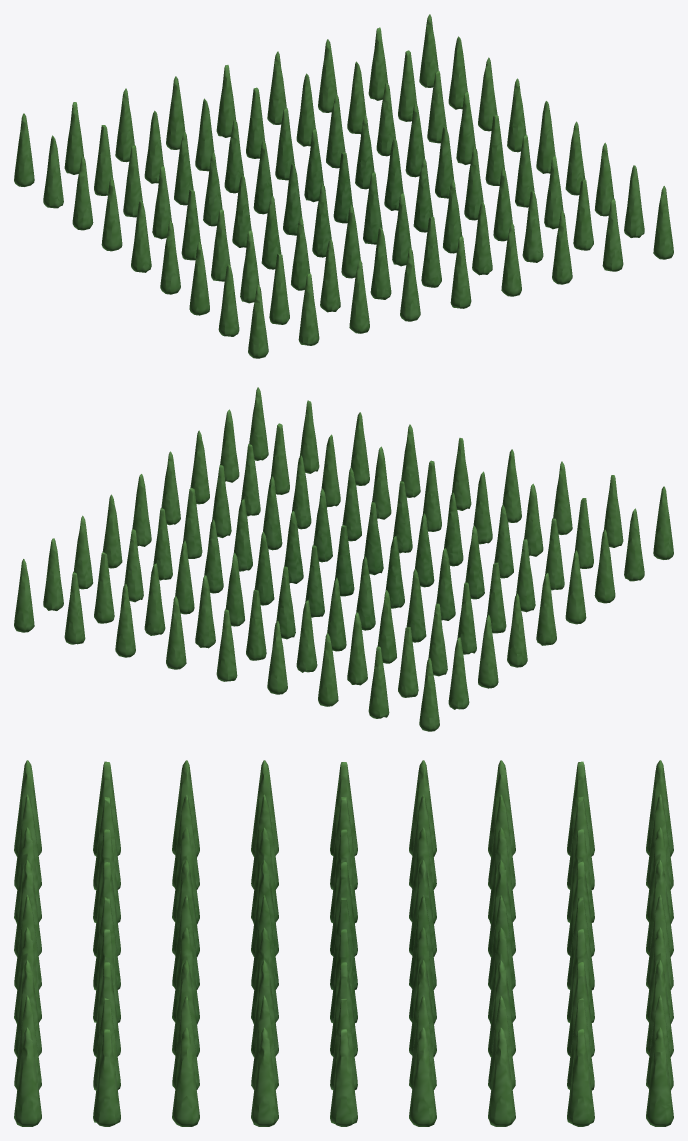
File: grass_patch.glb
3 views of the same model, one above another, from view 1: azimuth 30°, elevation 25°; view 2: azimuth 150°, elevation 25°; view 3: azimuth 270°, elevation 25° (orthographic). The views are drawn at different scales.
Visible parts, largest first — view 1: grass_patch; view 2: grass_patch; view 3: grass_patch.
Boxes of the visible parts, box(x1,y1,x2,y2) form: grass_patch: box(14, 14, 673, 358); grass_patch: box(14, 387, 673, 731); grass_patch: box(14, 760, 673, 1126).
Bounding box in the file's own units: 2.34 × 0.3715 × 2.34.
